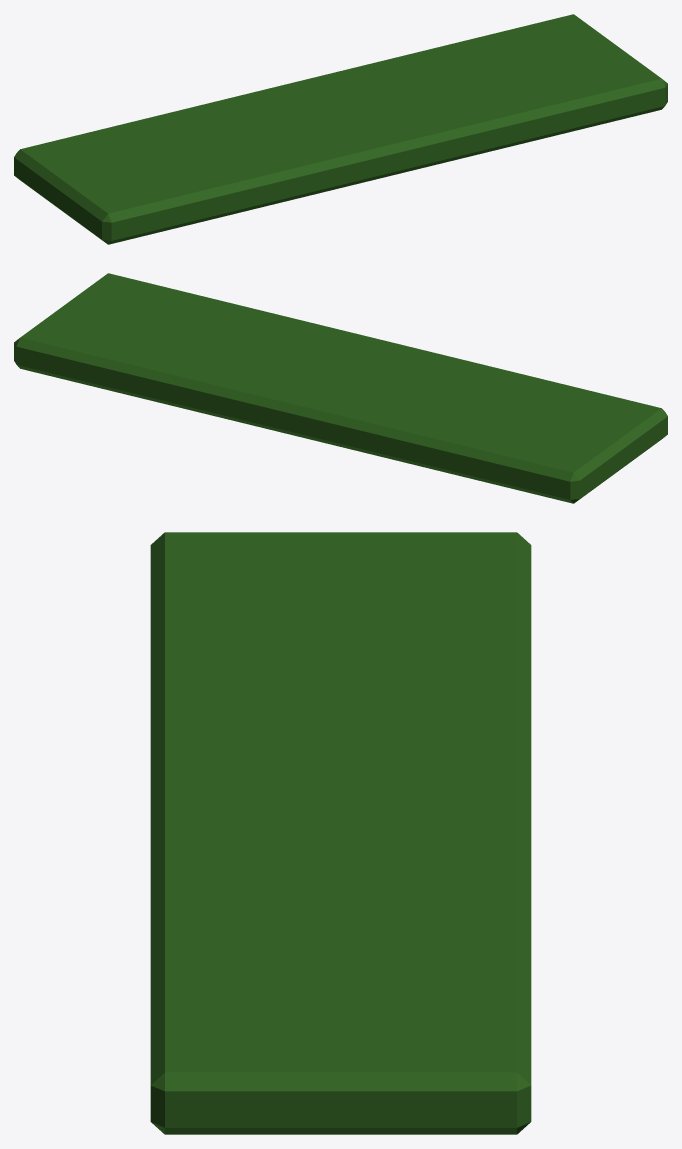
File: shelves_00.fbx
3 renders of one model, top to bottom at view 1: azimuth 30°, elevation 25°; view 2: azimuth 150°, elevation 25°; view 3: azimuth 270°, elevation 25°, orthographic. The views are drawn at different scales.
Parts seen in each view (by area): view 1: shelves_00; view 2: shelves_00; view 3: shelves_00.
Part boxes in pixels (<box>): shelves_00: <box>14,14,667,244</box>; shelves_00: <box>14,273,667,503</box>; shelves_00: <box>150,532,531,1134</box>.
Bounding box in the file's own units: 266 × 14 × 77.47.
